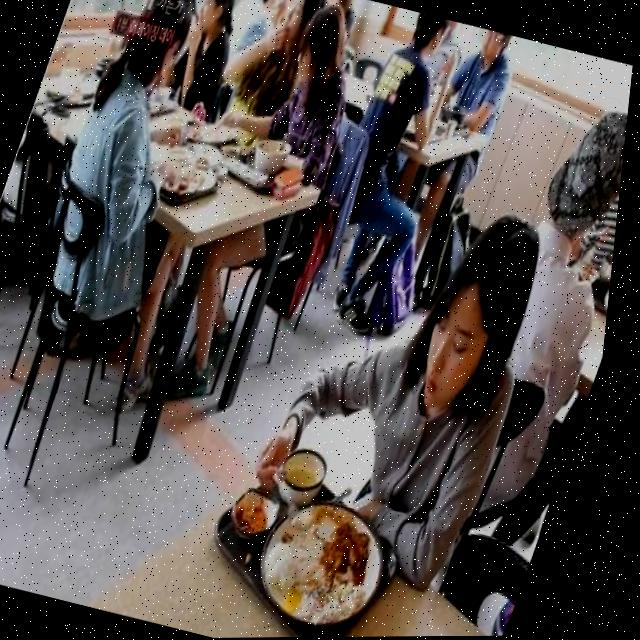eating-person: (193, 124, 608, 639), (164, 0, 386, 417), (51, 0, 251, 244)
